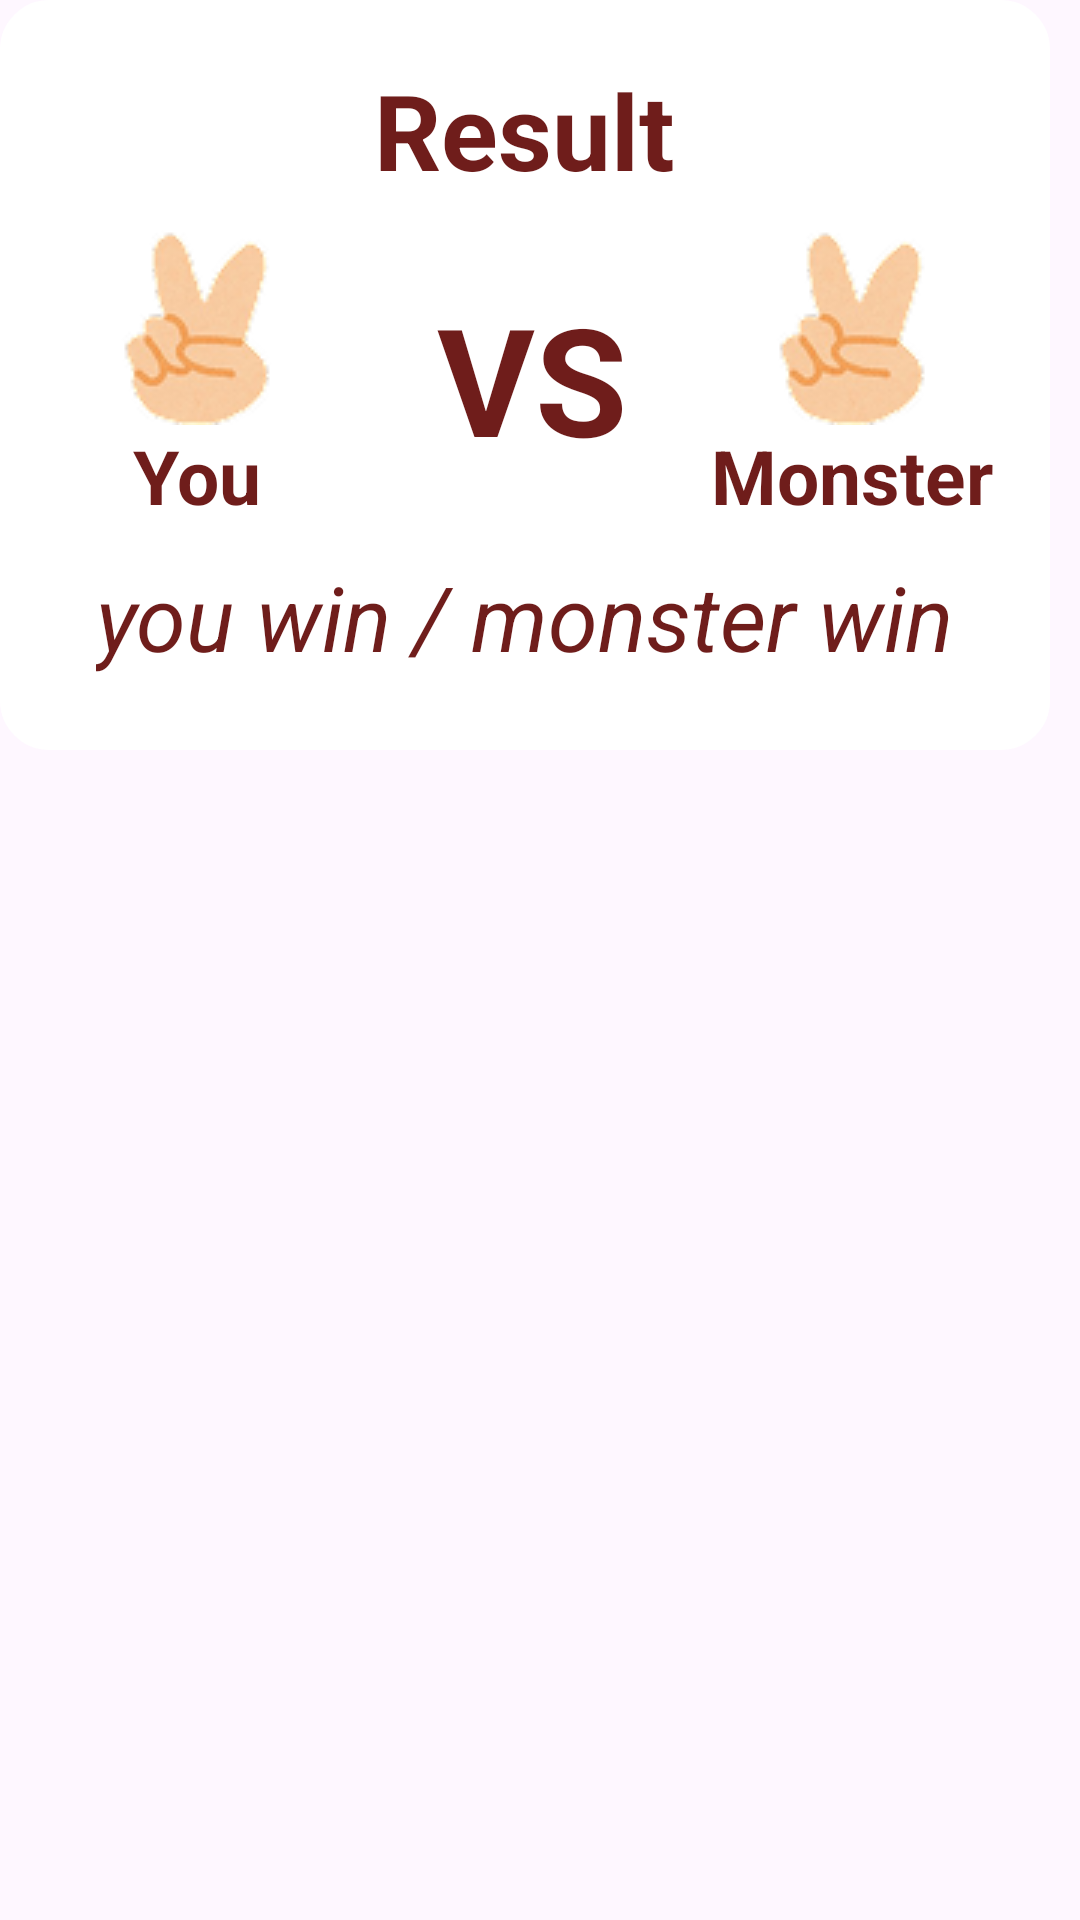

Where to tap for icons on this 1080 × 1920 app screen, as (x=x, y=y):
scissor: (x=197, y=329), (x=852, y=329)
